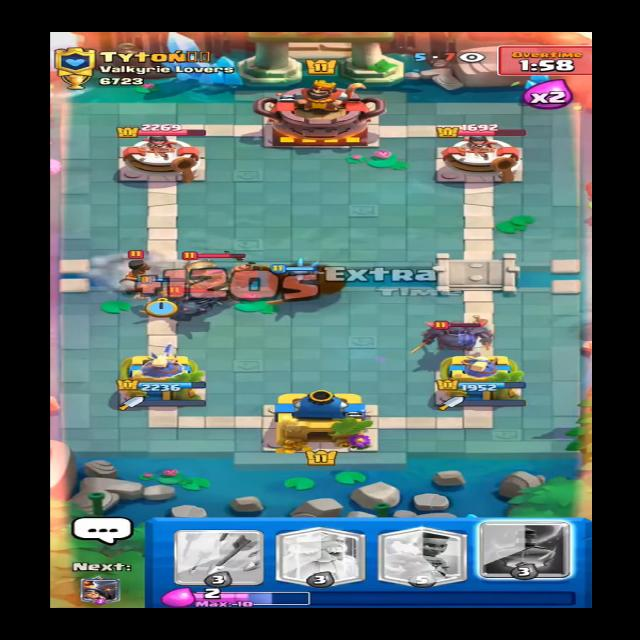goblin-machine: (180, 250, 260, 290)
pekka: (142, 285, 235, 326), (419, 313, 501, 354)
ram-rider: (109, 247, 158, 299)
